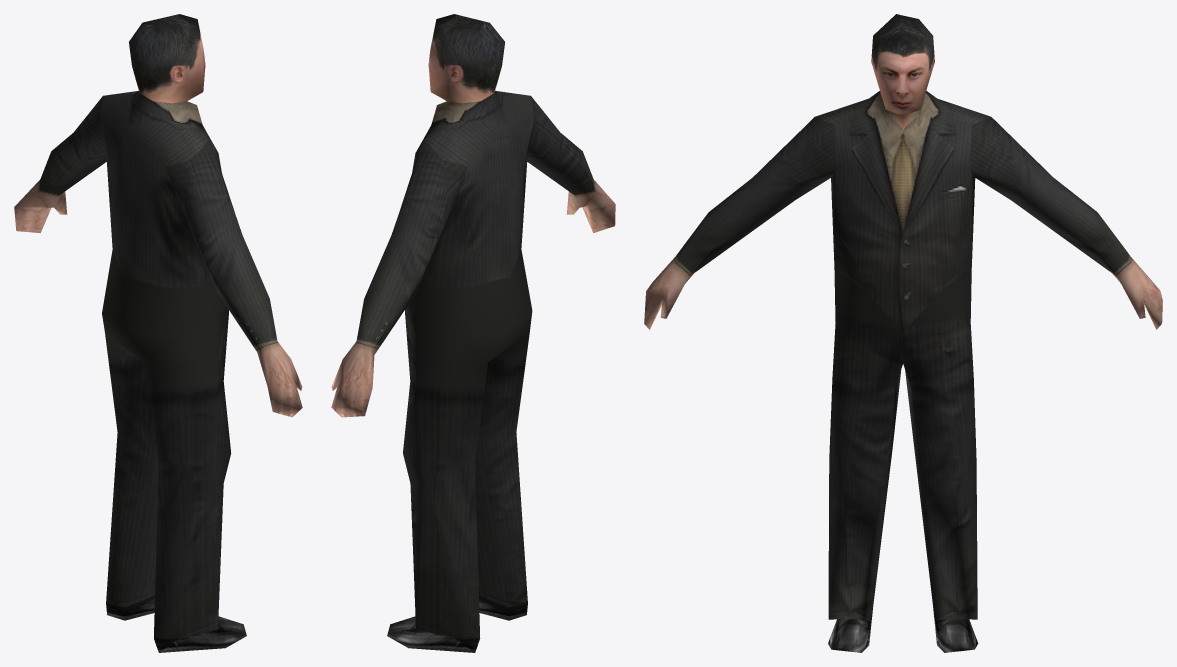
Rendered from Ganpa01.obj.
3 views of the same model, side by side, from view 1: azimuth 30°, elevation 25°; view 2: azimuth 150°, elevation 25°; view 3: azimuth 270°, elevation 25° (orthographic).
Bounding box in the file's own units: 0.3359 × 1.81 × 1.39.
